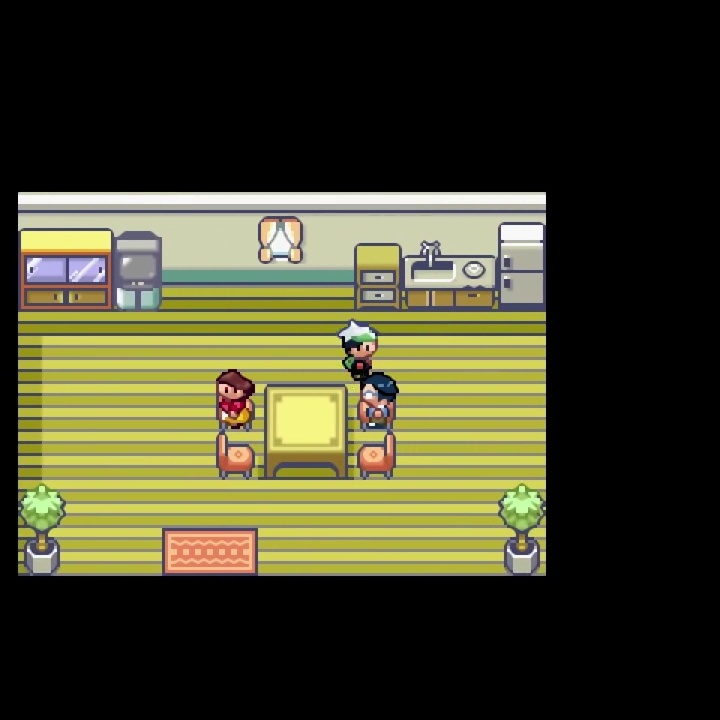agent: (336, 316, 379, 381)
exit: (160, 524, 259, 630)
npc: (214, 367, 257, 433), (359, 371, 400, 434)
